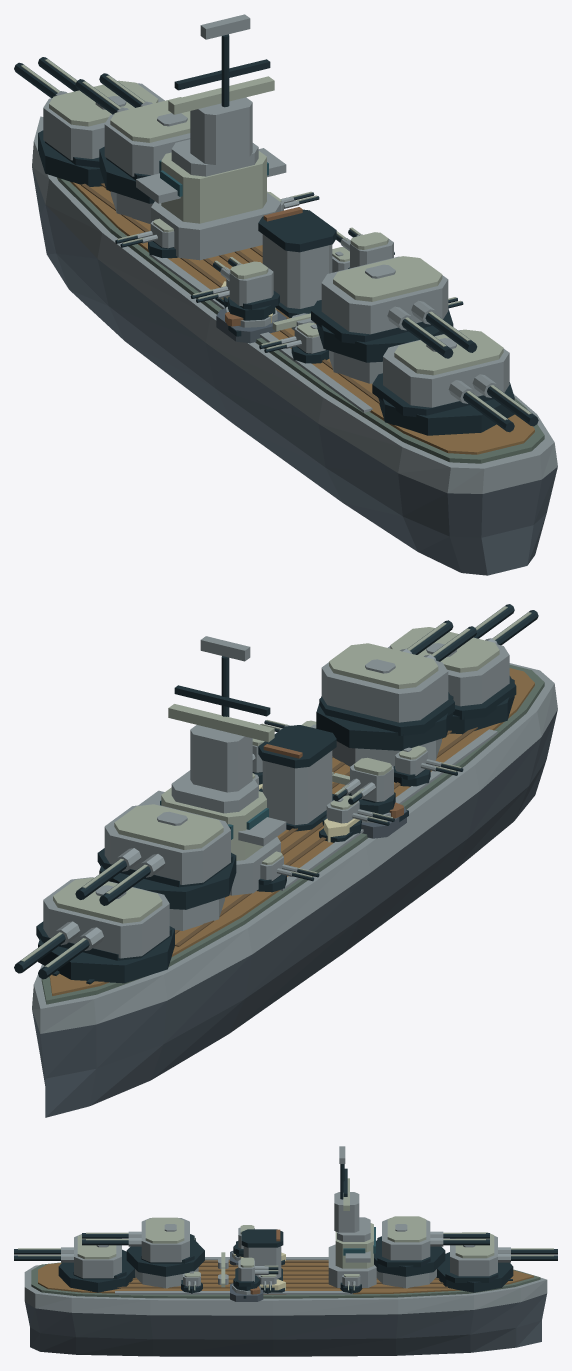
The model's file is historic-bismarck.glb.
The picture shows the model from 3 angles, top to bottom: view 1: azimuth 30°, elevation 25°; view 2: azimuth 150°, elevation 25°; view 3: azimuth 270°, elevation 25°; orthographic projection. The views are drawn at different scales.
Visible parts, largest first — view 1: historic-bismarck-historic-bismarck-geometry, historic-bismarck-part_bridge.032-geometry, historic-bismarck-turret_main_3.011-geometry, historic-bismarck-turret_main_2.021-geometry, historic-bismarck-turret_main_0.022-geometry, historic-bismarck-turret_main_1.021-geometry, historic-bismarck-historic_funnel_0.033-geometry, historic-bismarck-turret_aa_aa-port.034-geometry, historic-bismarck-turret_secondary_2.005-geometry, historic-bismarck-turret_aa_aa-starboard.032-geometry, historic-bismarck-turret_secondary_0.007-geometry, historic-bismarck-part_aa-port.034-geometry; view 2: historic-bismarck-historic-bismarck-geometry, historic-bismarck-part_bridge.032-geometry, historic-bismarck-turret_main_2.021-geometry, historic-bismarck-turret_main_0.022-geometry, historic-bismarck-turret_main_1.021-geometry, historic-bismarck-turret_main_3.011-geometry, historic-bismarck-historic_funnel_0.033-geometry, historic-bismarck-turret_aa_aa-port.034-geometry, historic-bismarck-turret_secondary_2.005-geometry, historic-bismarck-turret_secondary_0.007-geometry, historic-bismarck-turret_secondary_1.007-geometry, historic-bismarck-part_aa-port.034-geometry; view 3: historic-bismarck-historic-bismarck-geometry, historic-bismarck-turret_main_2.021-geometry, historic-bismarck-turret_main_1.021-geometry, historic-bismarck-part_bridge.032-geometry, historic-bismarck-turret_main_0.022-geometry, historic-bismarck-turret_main_3.011-geometry, historic-bismarck-historic_funnel_0.033-geometry, historic-bismarck-turret_aa_aa-starboard.032-geometry, historic-bismarck-turret_secondary_5.005-geometry, historic-bismarck-part_aa-starboard.032-geometry, historic-bismarck-turret_secondary_3.005-geometry, historic-bismarck-turret_aa_aa-port.034-geometry.
Part boxes in pixels (left/top/right/bottom): historic-bismarck-historic-bismarck-geometry: left=32, top=116, right=557, bottom=575; historic-bismarck-part_bridge.032-geometry: left=136, top=14, right=286, bottom=260; historic-bismarck-turret_main_3.011-geometry: left=372, top=329, right=538, bottom=435; historic-bismarck-turret_main_2.021-geometry: left=311, top=256, right=477, bottom=362; historic-bismarck-turret_main_0.022-geometry: left=14, top=57, right=164, bottom=186; historic-bismarck-turret_main_1.021-geometry: left=75, top=73, right=190, bottom=203; historic-bismarck-historic_funnel_0.033-geometry: left=258, top=207, right=336, bottom=317; historic-bismarck-turret_aa_aa-port.034-geometry: left=212, top=257, right=279, bottom=320; historic-bismarck-turret_secondary_2.005-geometry: left=259, top=322, right=329, bottom=363; historic-bismarck-turret_aa_aa-starboard.032-geometry: left=336, top=227, right=393, bottom=268; historic-bismarck-turret_secondary_0.007-geometry: left=115, top=218, right=177, bottom=258; historic-bismarck-part_aa-port.034-geometry: left=216, top=306, right=286, bottom=343; historic-bismarck-historic-bismarck-geometry: left=32, top=663, right=557, bottom=1117; historic-bismarck-part_bridge.032-geometry: left=139, top=636, right=286, bottom=895; historic-bismarck-turret_main_2.021-geometry: left=316, top=620, right=477, bottom=750; historic-bismarck-turret_main_0.022-geometry: left=14, top=877, right=174, bottom=983; historic-bismarck-turret_main_1.021-geometry: left=75, top=803, right=236, bottom=909; historic-bismarck-turret_main_3.011-geometry: left=388, top=604, right=538, bottom=734; historic-bismarck-historic_funnel_0.033-geometry: left=258, top=725, right=336, bottom=831; historic-bismarck-turret_aa_aa-port.034-geometry: left=333, top=757, right=395, bottom=814; historic-bismarck-turret_secondary_2.005-geometry: left=393, top=745, right=463, bottom=786; historic-bismarck-turret_secondary_0.007-geometry: left=257, top=851, right=319, bottom=892; historic-bismarck-turret_secondary_1.007-geometry: left=322, top=795, right=394, bottom=834; historic-bismarck-part_aa-port.034-geometry: left=361, top=802, right=406, bottom=838; historic-bismarck-historic-bismarck-geometry: left=24, top=1252, right=547, bottom=1356; historic-bismarck-turret_main_2.021-geometry: left=82, top=1217, right=204, bottom=1276; historic-bismarck-turret_main_1.021-geometry: left=374, top=1216, right=489, bottom=1276; historic-bismarck-part_bridge.032-geometry: left=328, top=1146, right=376, bottom=1287; historic-bismarck-turret_main_0.022-geometry: left=436, top=1232, right=557, bottom=1292; historic-bismarck-turret_main_3.011-geometry: left=14, top=1234, right=135, bottom=1292; historic-bismarck-historic_funnel_0.033-geometry: left=235, top=1229, right=283, bottom=1280; historic-bismarck-turret_aa_aa-starboard.032-geometry: left=233, top=1257, right=278, bottom=1290; historic-bismarck-turret_secondary_5.005-geometry: left=181, top=1271, right=202, bottom=1293; historic-bismarck-part_aa-starboard.032-geometry: left=230, top=1283, right=263, bottom=1301; historic-bismarck-turret_secondary_3.005-geometry: left=340, top=1274, right=362, bottom=1293; historic-bismarck-turret_aa_aa-port.034-geometry: left=233, top=1225, right=254, bottom=1257.
Bounding box in the file's own units: 1.16 × 1.92 × 4.99.
